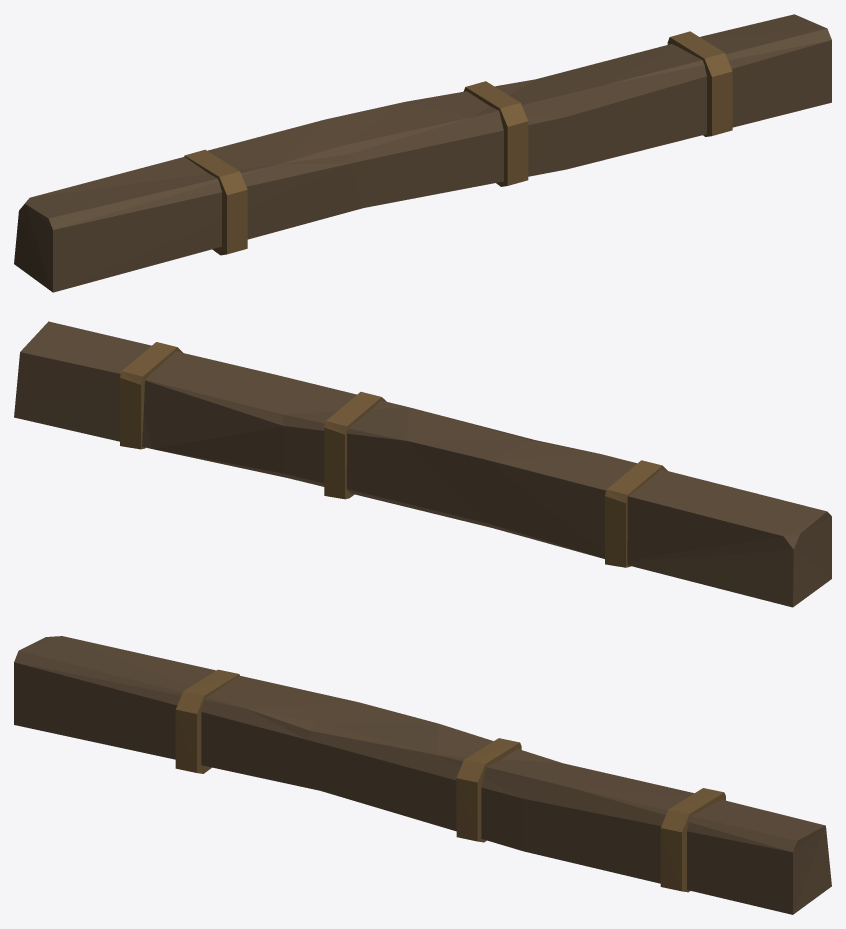
The picture shows the model from 3 angles, top to bottom: view 1: azimuth 30°, elevation 25°; view 2: azimuth 150°, elevation 25°; view 3: azimuth 330°, elevation 25°; orthographic projection.
Parts seen in each view (by area): view 1: Cube.006; view 2: Cube.006; view 3: Cube.006.
Boxes of the visible parts, x1,y1,x2,y2 form: Cube.006: (14,14,831,292); Cube.006: (14,321,831,607); Cube.006: (14,636,831,914).
Bounding box in the file's own units: 9.05 × 0.8676 × 0.9087.
1 material, 1 textured.
